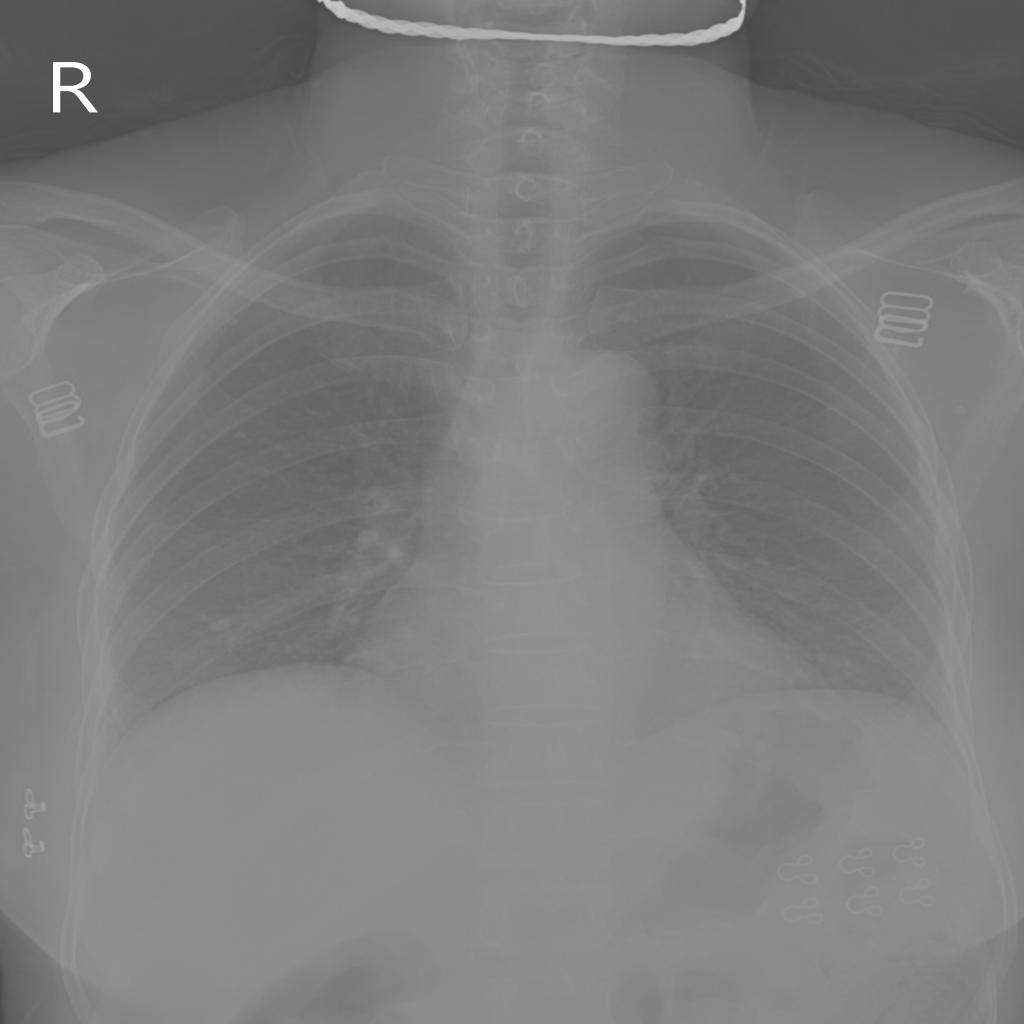Nodule: (205, 618, 233, 633), (952, 405, 970, 418), (234, 430, 247, 442), (794, 290, 809, 300), (619, 312, 632, 323), (228, 318, 240, 326)
